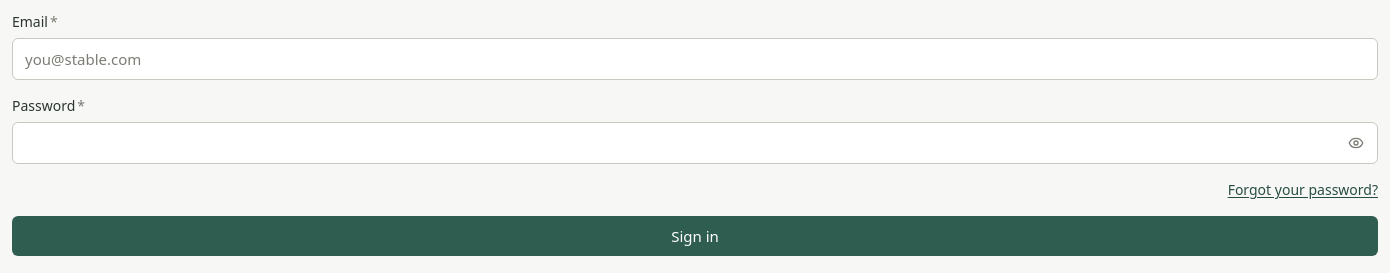
Test: LoginForm › shows a loading state and then navigates to the dashboard
In the field labelled "Email*": (695, 59) [12, 38, 1378, 80], type "owner@stable.test"
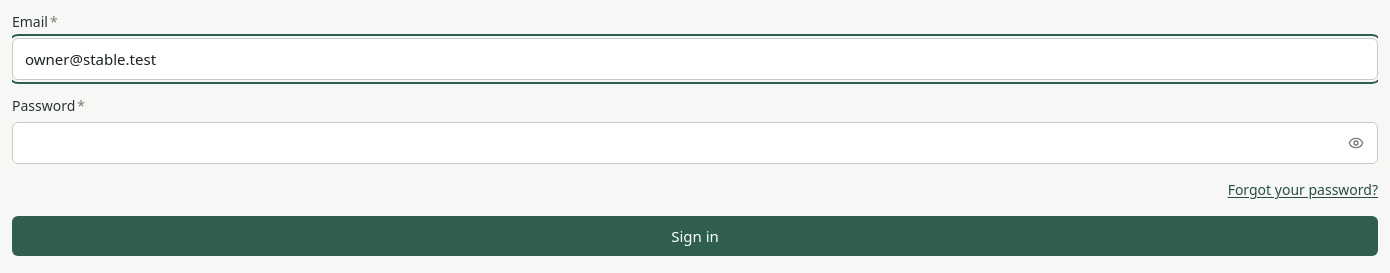
In the password field labelled "Password*": (695, 143) [12, 122, 1378, 164], type "password1"
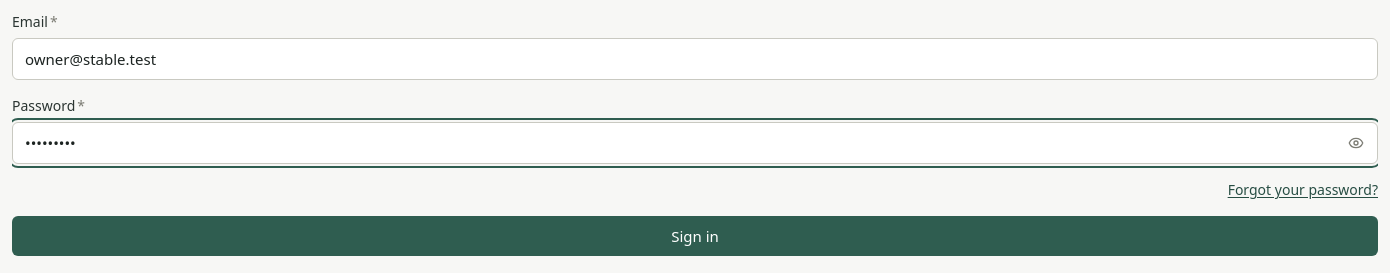
Click the button "Sign in": (695, 236) [12, 216, 1378, 256]
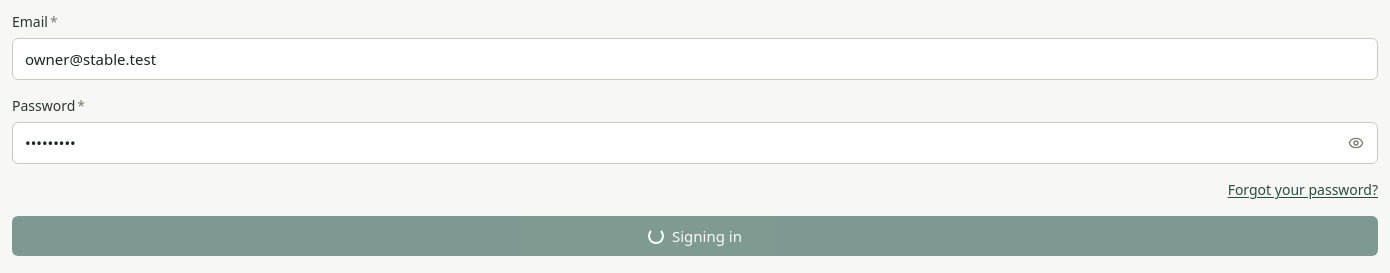
Check: the button "Signing in" is disabled, box [12, 216, 1378, 256]
